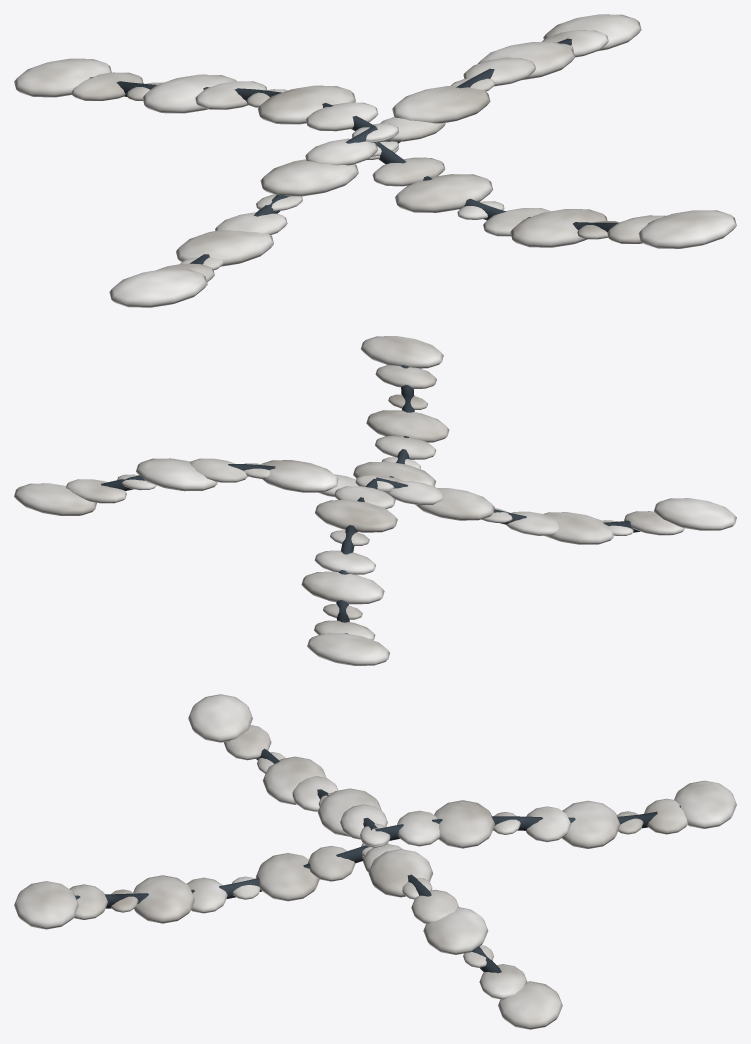
File: knot.glb
The picture shows the model from 3 angles, top to bottom: view 1: azimuth 30°, elevation 25°; view 2: azimuth 150°, elevation 25°; view 3: azimuth 270°, elevation 25°; orthographic projection. The views are drawn at different scales.
Parts seen in each view (by area): view 1: knot_textured_mesh; view 2: knot_textured_mesh; view 3: knot_textured_mesh.
Part boxes in pixels (bbox=[...]): knot_textured_mesh: bbox=[14, 14, 736, 307]; knot_textured_mesh: bbox=[14, 336, 736, 665]; knot_textured_mesh: bbox=[14, 694, 736, 1029].
Bounding box in the file's own units: 5.87 × 0.4769 × 5.57.
1 material, 1 textured.
